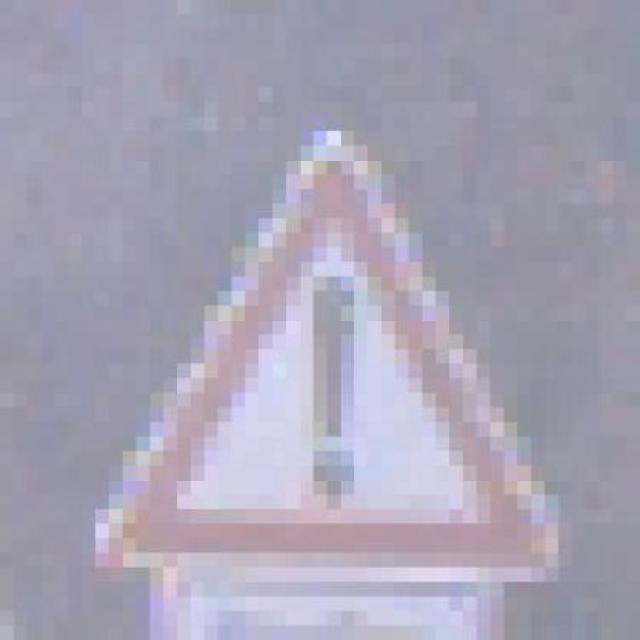Attention Please-: (68, 101, 572, 582)
